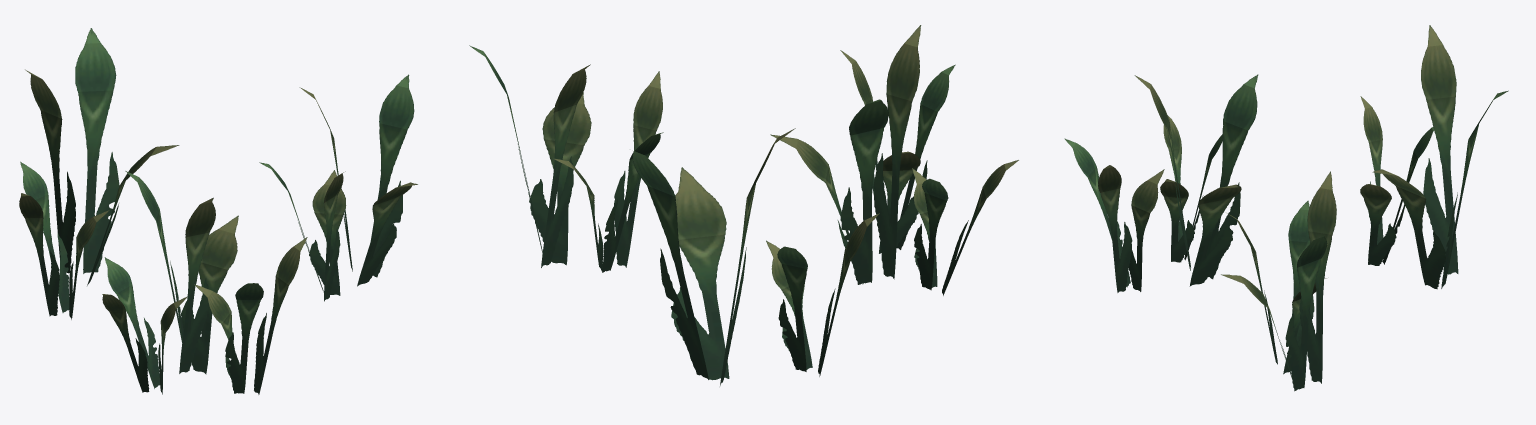
Rendered from cao1.fbx.
3 views of the same model, side by side, from view 1: azimuth 30°, elevation 25°; view 2: azimuth 150°, elevation 25°; view 3: azimuth 270°, elevation 25° (orthographic). The views are drawn at different scales.
Parts seen in each view (by area): view 1: cao1; view 2: cao1; view 3: cao1.
Boxes of the visible parts, x1,y1,x2,y2 form: cao1: (19, 28, 417, 394); cao1: (469, 25, 1018, 385); cao1: (1064, 25, 1508, 391).
Bounding box in the file's own units: 553 × 332 × 558.
